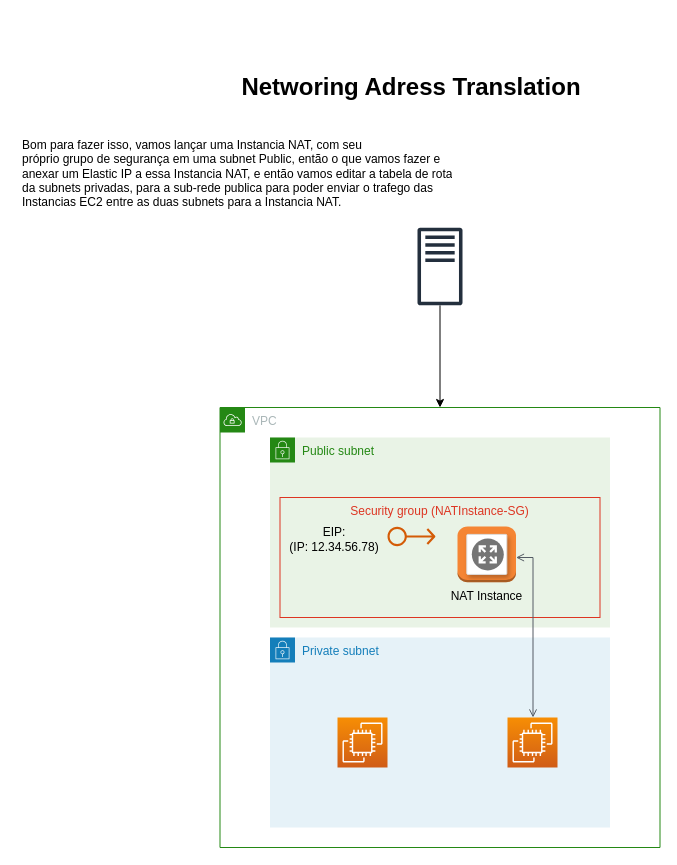
This 677x865 diagram has some shape labels left out. The shapes that lost their labels are listed below. From the top down, each one's centre as x and y in pixels, then its label:
pixel 439 266: Server
pixel 362 742: IP:10.0.0.10
pixel 532 742: IP:10.0.0.20
